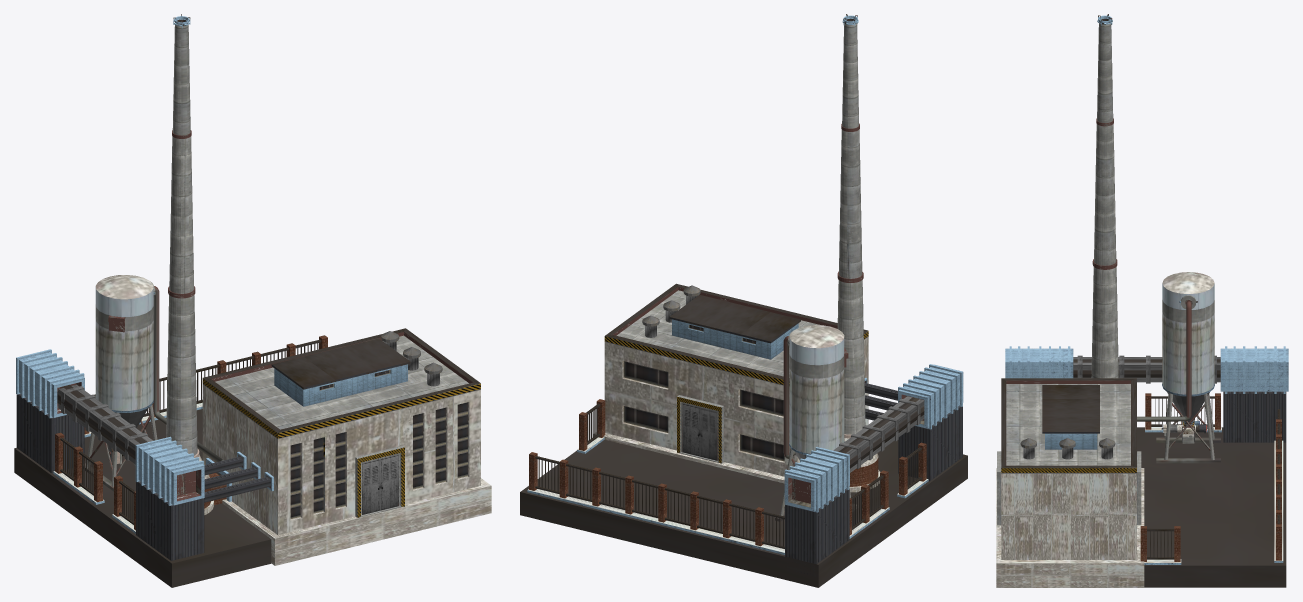
The model's file is building_27.fbx.
3 views of the same model, side by side, from view 1: azimuth 30°, elevation 25°; view 2: azimuth 150°, elevation 25°; view 3: azimuth 270°, elevation 25° (orthographic). The views are drawn at different scales.
Visible parts, largest first — view 1: Cube; view 2: Cube; view 3: Cube.
Boxes of the visible parts, bbox=[...] form: Cube: bbox=[14, 14, 491, 587]; Cube: bbox=[520, 14, 967, 587]; Cube: bbox=[996, 14, 1288, 587].
Size of the model in its own units: 1601 by 2480 by 1423.
